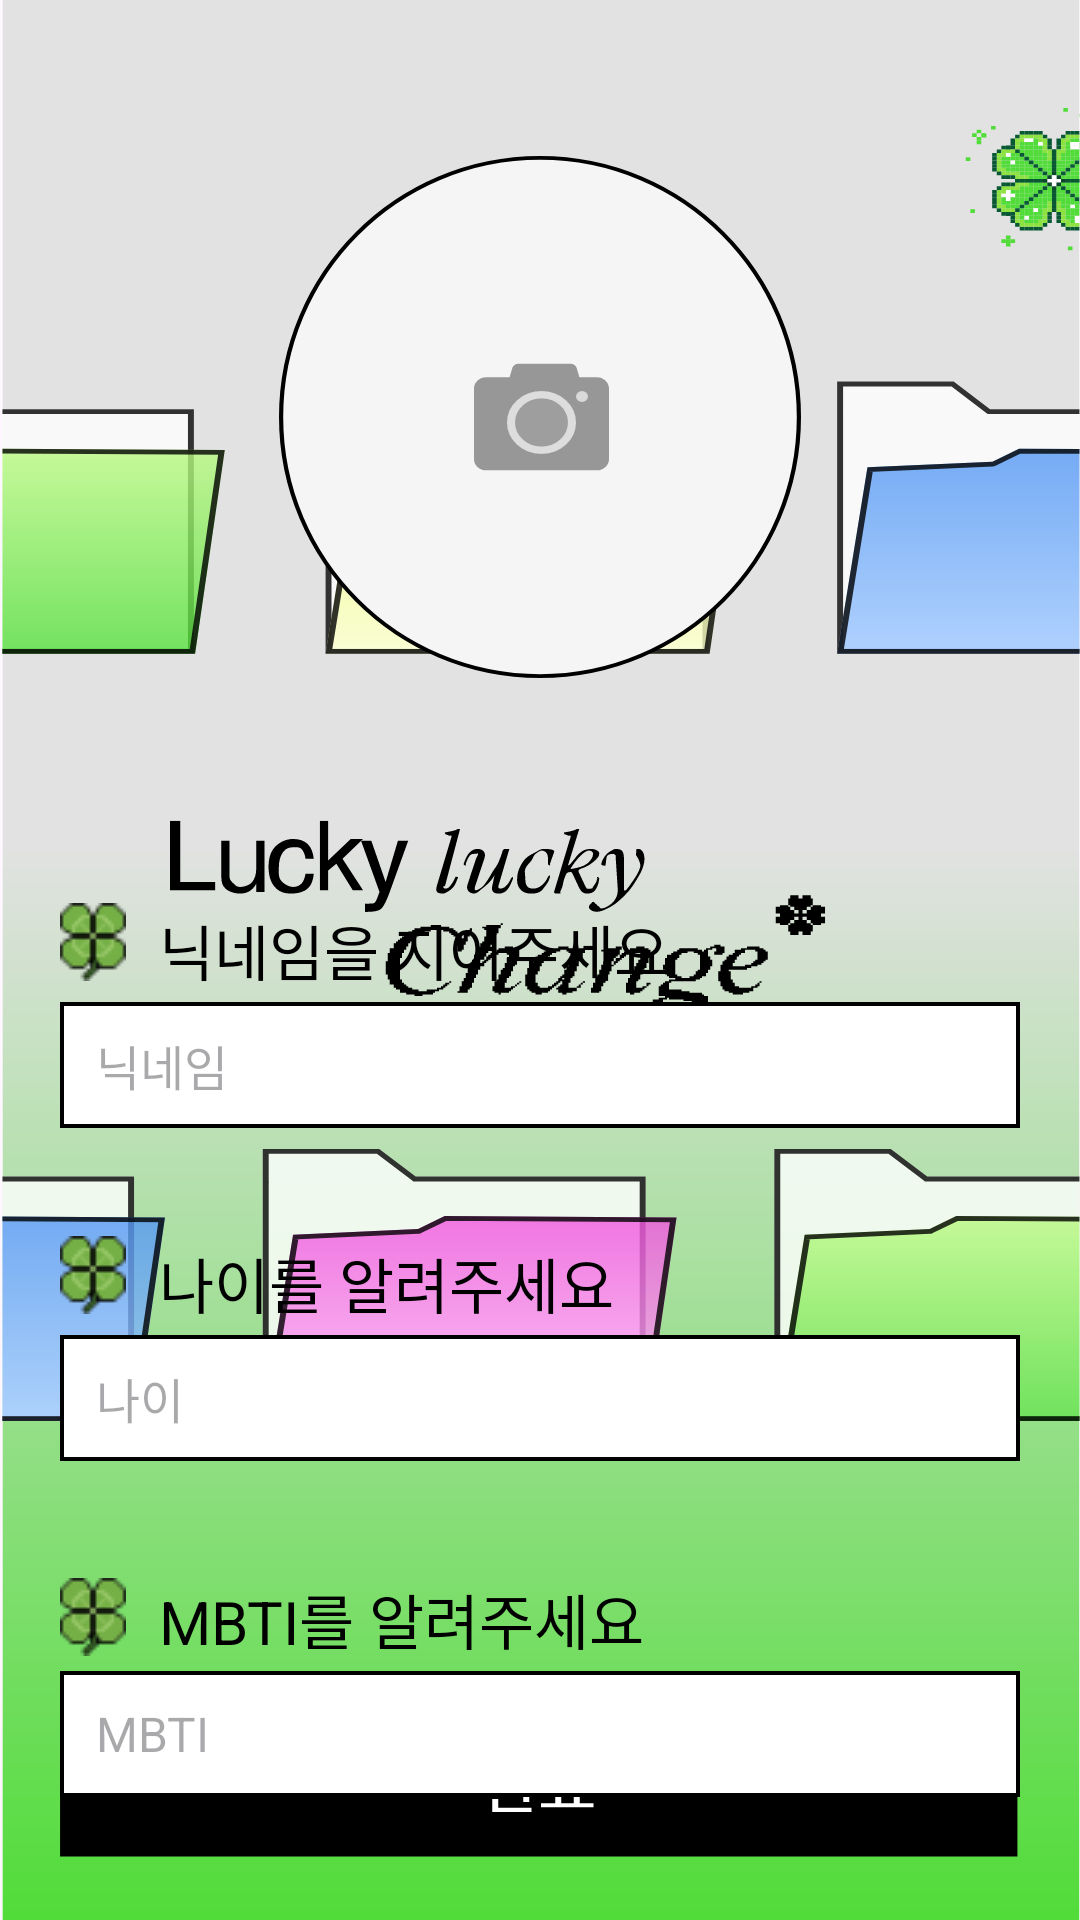

Screen size 1080 × 1920. Icon name, then its center in pixels as [x,y]:
info clover: [93,942], [93,1275], [93,1617]
